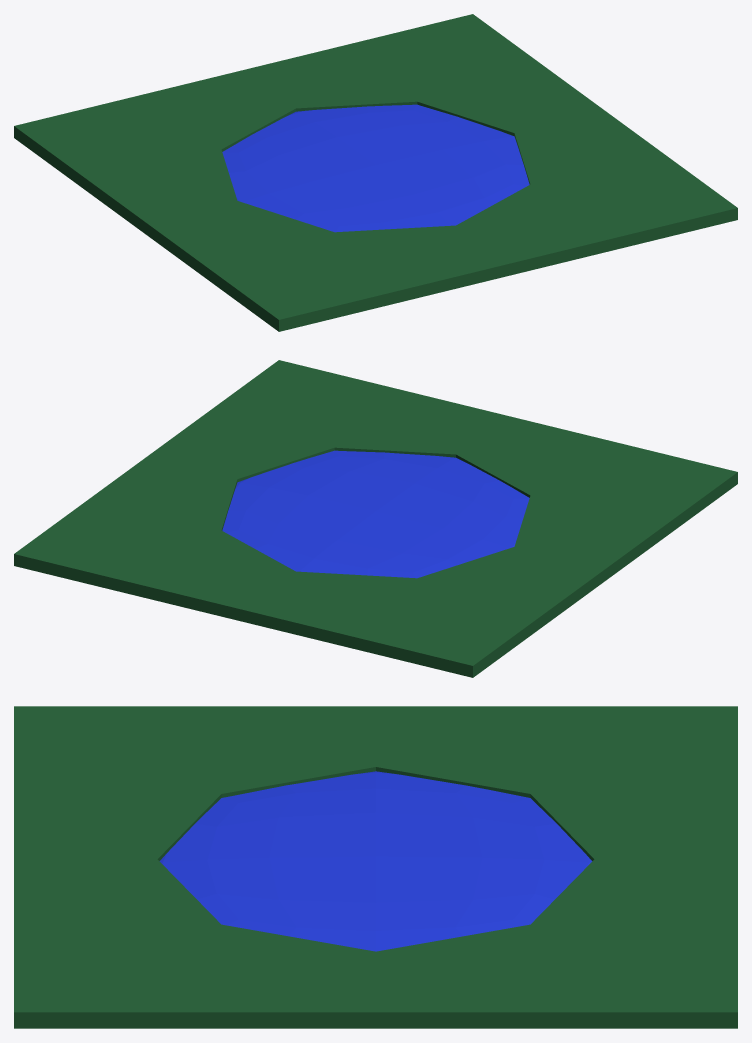
The model's file is watertile.glb.
3 renders of one model, top to bottom at view 1: azimuth 30°, elevation 25°; view 2: azimuth 150°, elevation 25°; view 3: azimuth 270°, elevation 25°, orthographic. The views are drawn at different scales.
Visible parts, largest first — view 1: Cube, Cube.001; view 2: Cube, Cube.001; view 3: Cube, Cube.001.
Boxes of the visible parts, <box> form: Cube: <box>14,14,737,331</box>; Cube.001: <box>222,104,529,232</box>; Cube: <box>14,360,737,677</box>; Cube.001: <box>222,450,529,578</box>; Cube: <box>14,706,737,1028</box>; Cube.001: <box>159,771,592,951</box>.
Size of the model in its own units: 8 by 0.2634 by 8.
